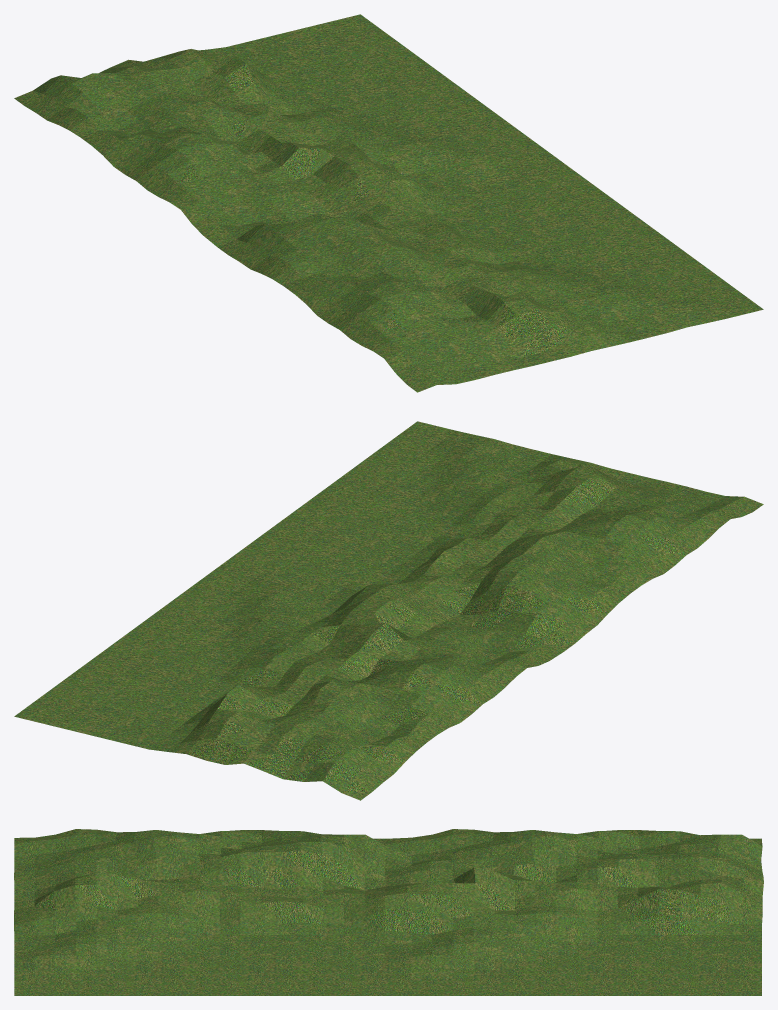
File: hills.fbx
3 views of the same model, one above another, from view 1: azimuth 30°, elevation 25°; view 2: azimuth 150°, elevation 25°; view 3: azimuth 270°, elevation 25° (orthographic). The views are drawn at different scales.
Visible parts, largest first — view 1: hills; view 2: hills; view 3: hills.
Boxes of the visible parts, box(x1,y1,x2,y2) form: hills: box(14, 14, 763, 392); hills: box(14, 421, 763, 800); hills: box(14, 829, 763, 995).
Size of the model in its own units: 601 by 59.06 by 1213.
